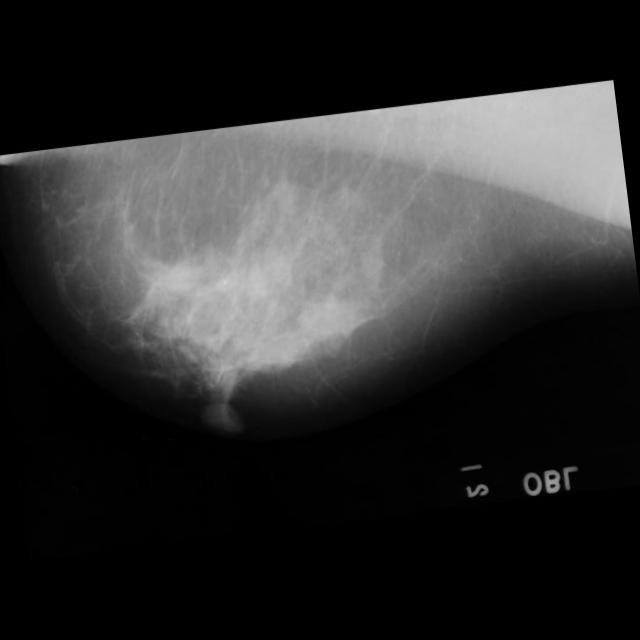ARCH: (103, 229, 213, 339)
